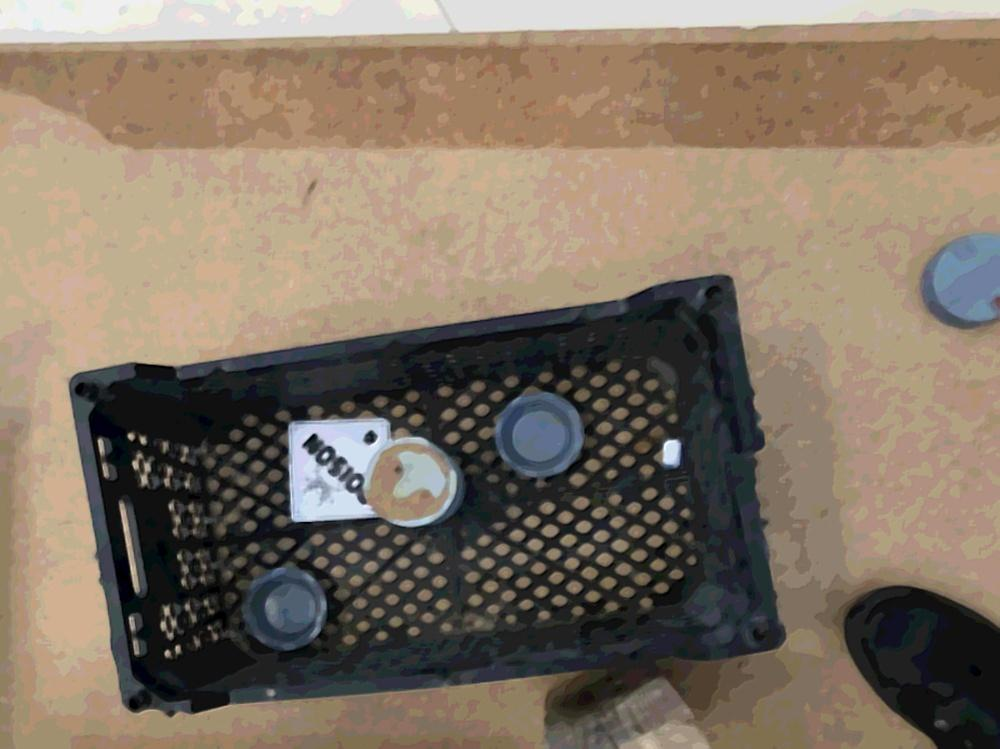poison: (285, 418, 396, 524)
